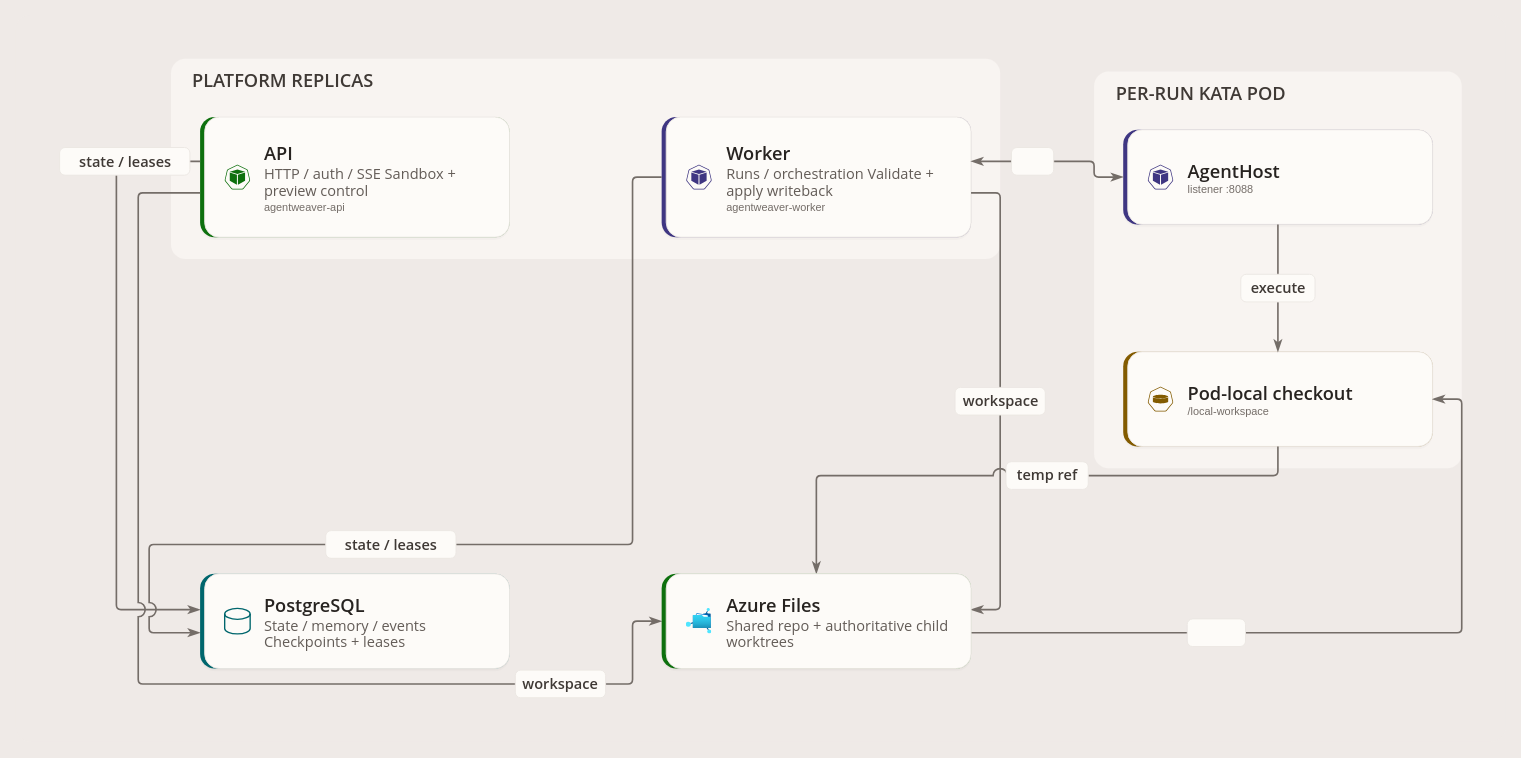
Image size: 1521x758. Some labels were removed from this diagram. The centre of each missing label's shape, as x and y in pixels:
A2A: point 1032,161
fetch: point 1216,632
